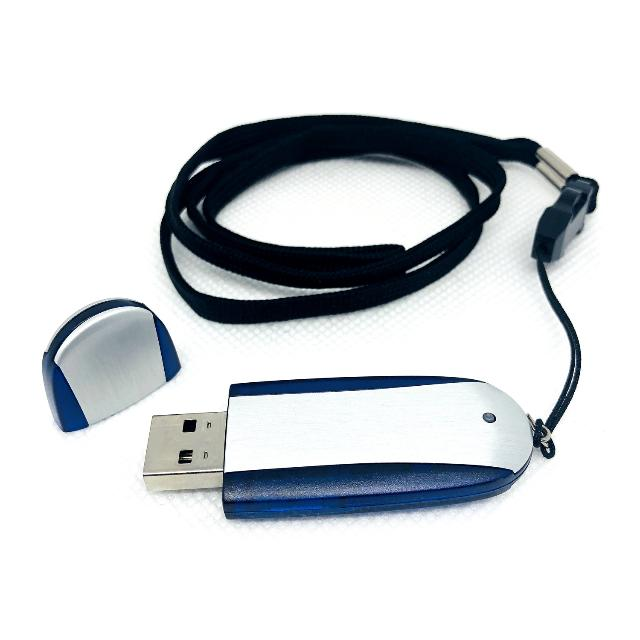USB-Flash-Drive: (137, 376, 523, 519)
